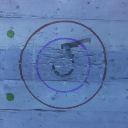Axe Tip: (69, 43, 78, 47)
